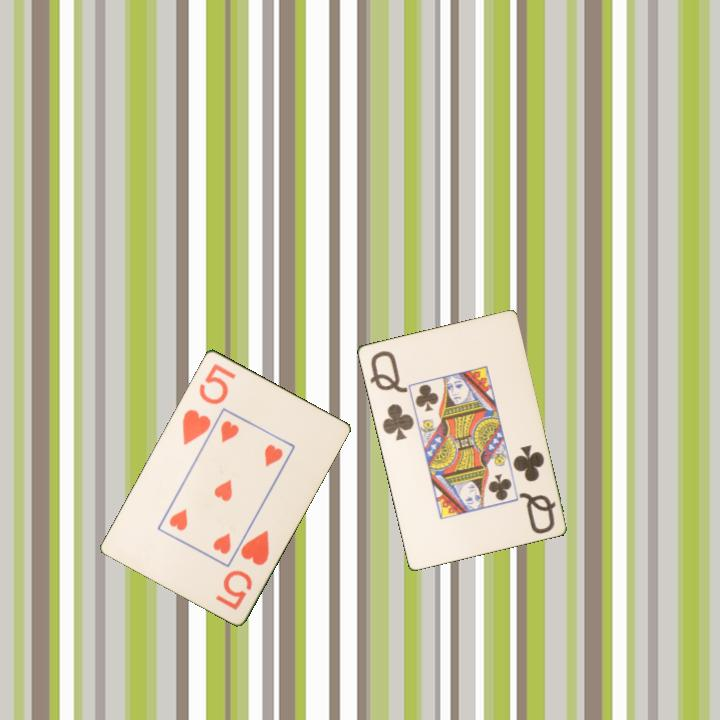5h: (178, 359, 239, 448), (212, 526, 272, 613)
Qc: (366, 347, 416, 443), (509, 441, 558, 537)
